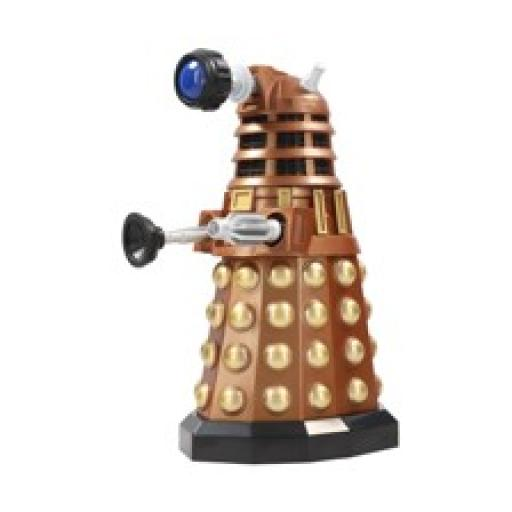dalek: (112, 45, 408, 464)
